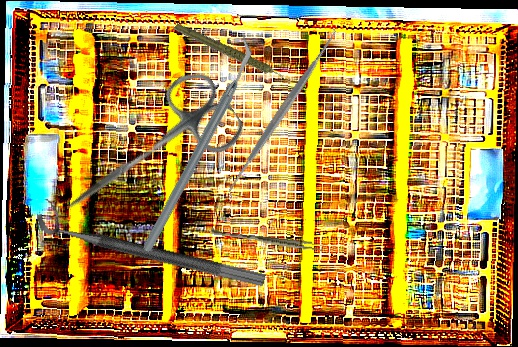Chopper: (79, 33, 316, 256)
Fixation Ring: (33, 197, 271, 289)
Handpiece: (172, 3, 288, 105)
Iris Scissors: (44, 63, 251, 246)
Spatula Surgical: (217, 24, 347, 202)
Tissue Forceps: (209, 228, 325, 252)
